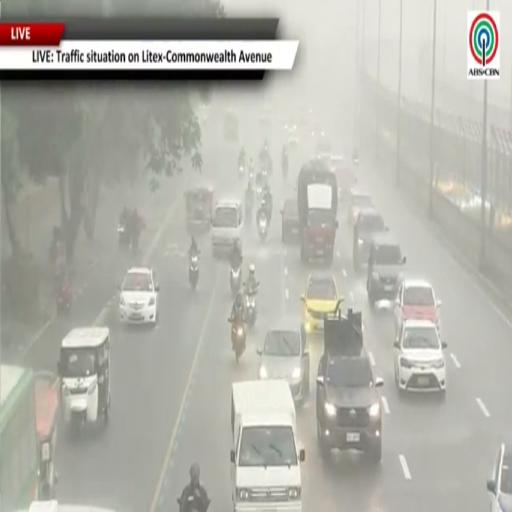bus: (0, 365, 38, 511)
car: (316, 310, 383, 462), (258, 326, 309, 402), (394, 320, 446, 393), (367, 232, 406, 307), (394, 279, 441, 332), (119, 266, 159, 324), (301, 274, 341, 332), (353, 208, 386, 270), (212, 200, 243, 258), (487, 443, 511, 511), (331, 155, 356, 204), (18, 501, 115, 511), (348, 189, 373, 227), (282, 199, 299, 244), (315, 132, 332, 158), (285, 124, 298, 147)
motorcycle: (228, 319, 246, 363), (57, 283, 73, 313), (245, 287, 257, 327), (71, 408, 86, 437), (189, 253, 199, 290), (177, 495, 198, 511), (230, 266, 241, 296), (258, 210, 268, 242), (118, 222, 130, 248), (245, 192, 253, 222), (282, 162, 288, 180), (248, 167, 254, 182), (256, 184, 262, 197), (239, 166, 244, 179), (354, 158, 359, 166)
truck: (231, 380, 305, 511), (297, 159, 338, 264)
